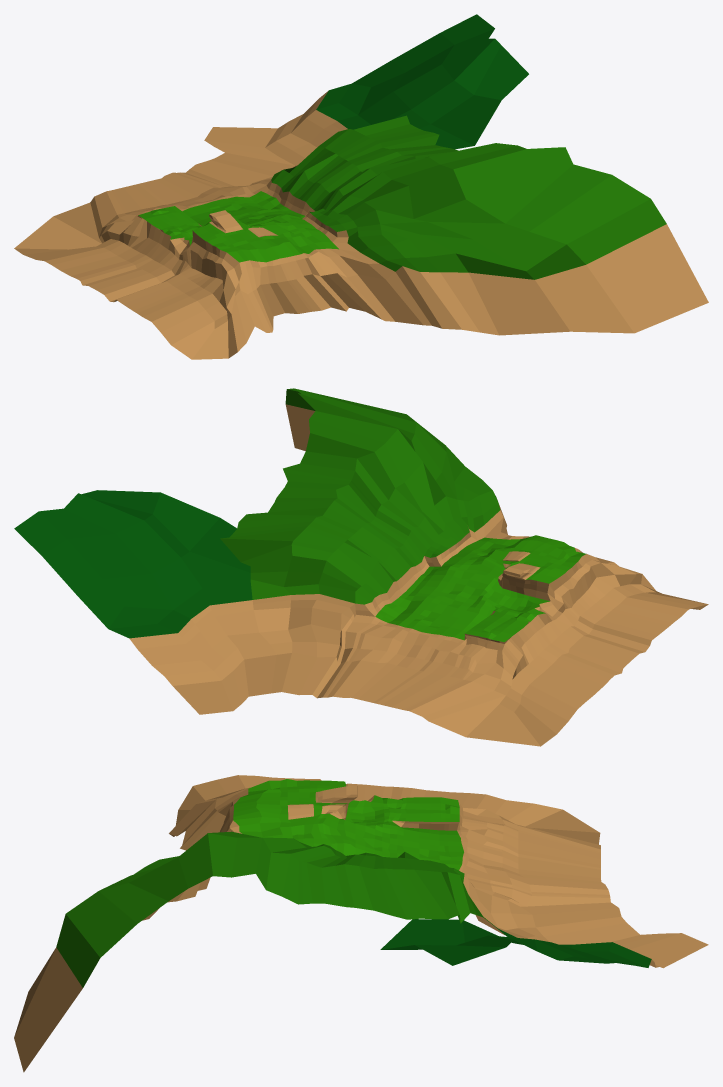
Rendered from hill.fbx.
The picture shows the model from 3 angles, top to bottom: view 1: azimuth 30°, elevation 25°; view 2: azimuth 150°, elevation 25°; view 3: azimuth 270°, elevation 25°; orthographic projection. The views are drawn at different scales.
Visible parts, largest first — view 1: hill; view 2: hill; view 3: hill.
Boxes of the visible parts, x1=… form: hill: x1=14, y1=14, x2=708, y2=359; hill: x1=14, y1=388, x2=708, y2=746; hill: x1=14, y1=775, x2=708, y2=1072.
Bounding box in the file's own units: 31640 × 8112 × 33524.
